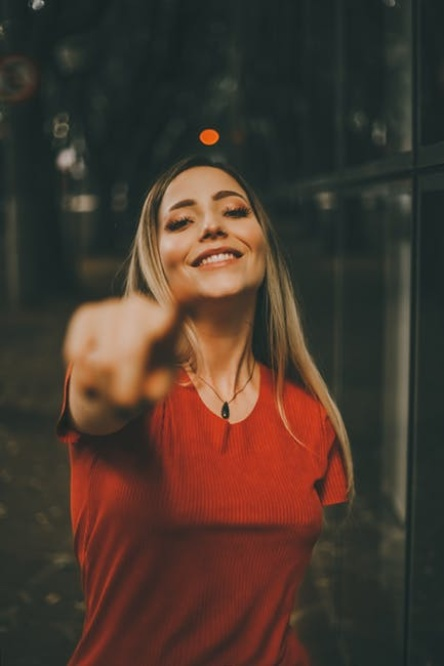face: (158, 166, 266, 305)
